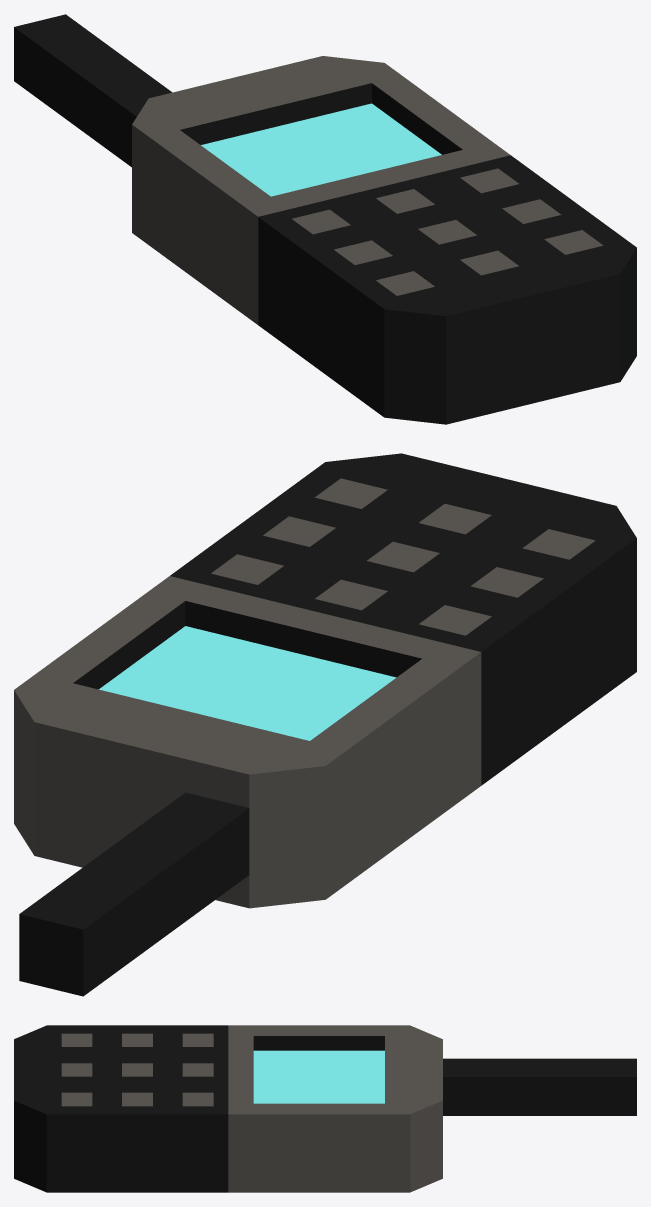
The model's file is WalkieTalkie.fbx.
The picture shows the model from 3 angles, top to bottom: view 1: azimuth 30°, elevation 25°; view 2: azimuth 150°, elevation 25°; view 3: azimuth 270°, elevation 25°; orthographic projection. The views are drawn at different scales.
Parts seen in each view (by area): view 1: Plane.001; view 2: Plane.001; view 3: Plane.001.
Part boxes in pixels (bbox=[...]): Plane.001: bbox=[14, 14, 636, 424]; Plane.001: bbox=[14, 453, 636, 996]; Plane.001: bbox=[14, 1025, 636, 1192].
Size of the model in its own units: 19.5 by 8 by 57.78.
